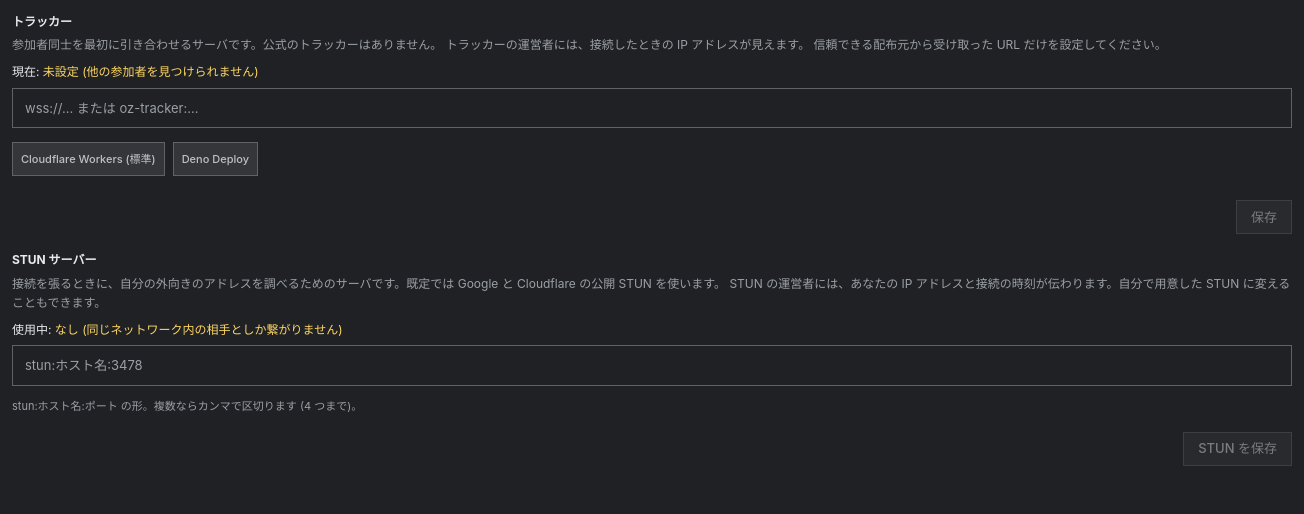
Test: トラッカーの設定画面 › 拒否された理由を表示する
Type "ws://tracker.example.org" into the field named "トラッカーの URL" at (652, 108), box [12, 88, 1292, 128]
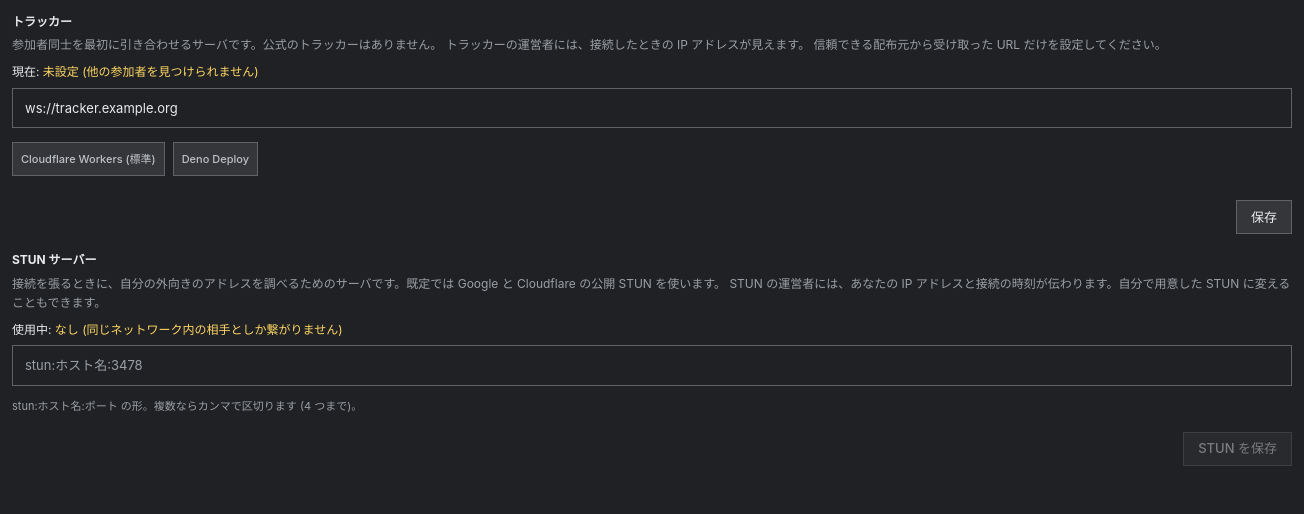
Click the button "保存" at (1264, 217), box [1236, 200, 1292, 234]
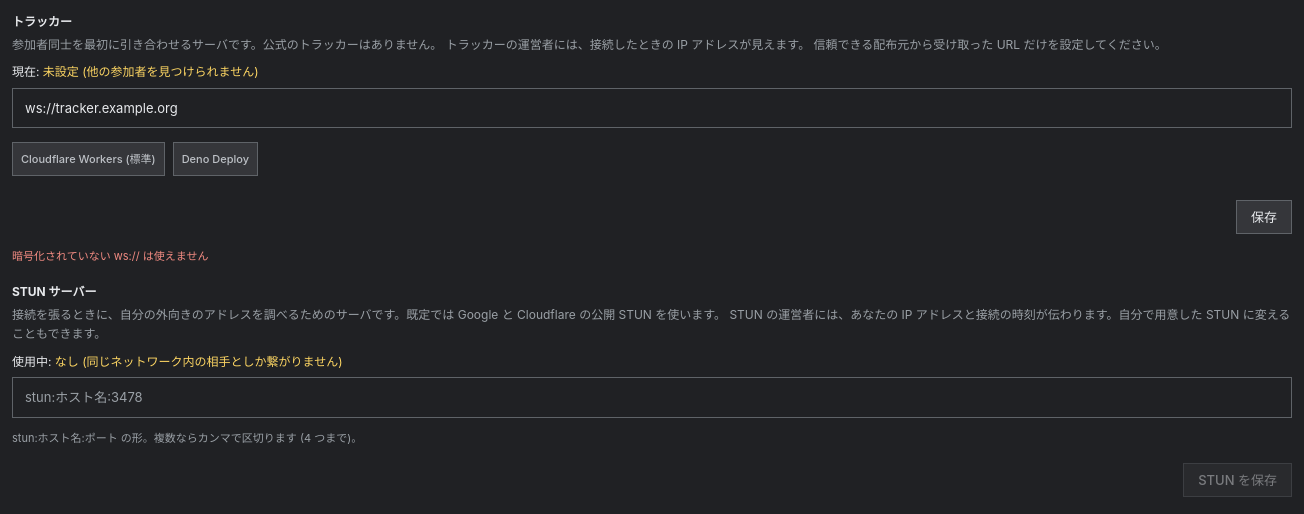
Expected: the message shows "ws://", [12, 249, 208, 263]
